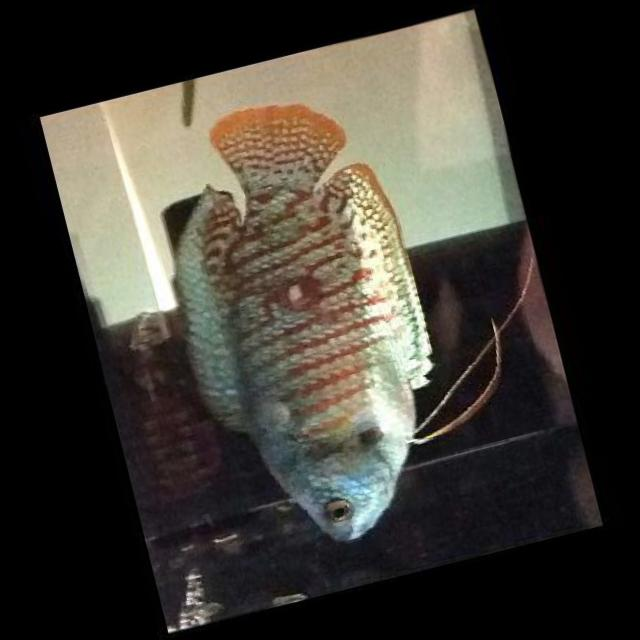Gourami: (128, 79, 472, 568)
